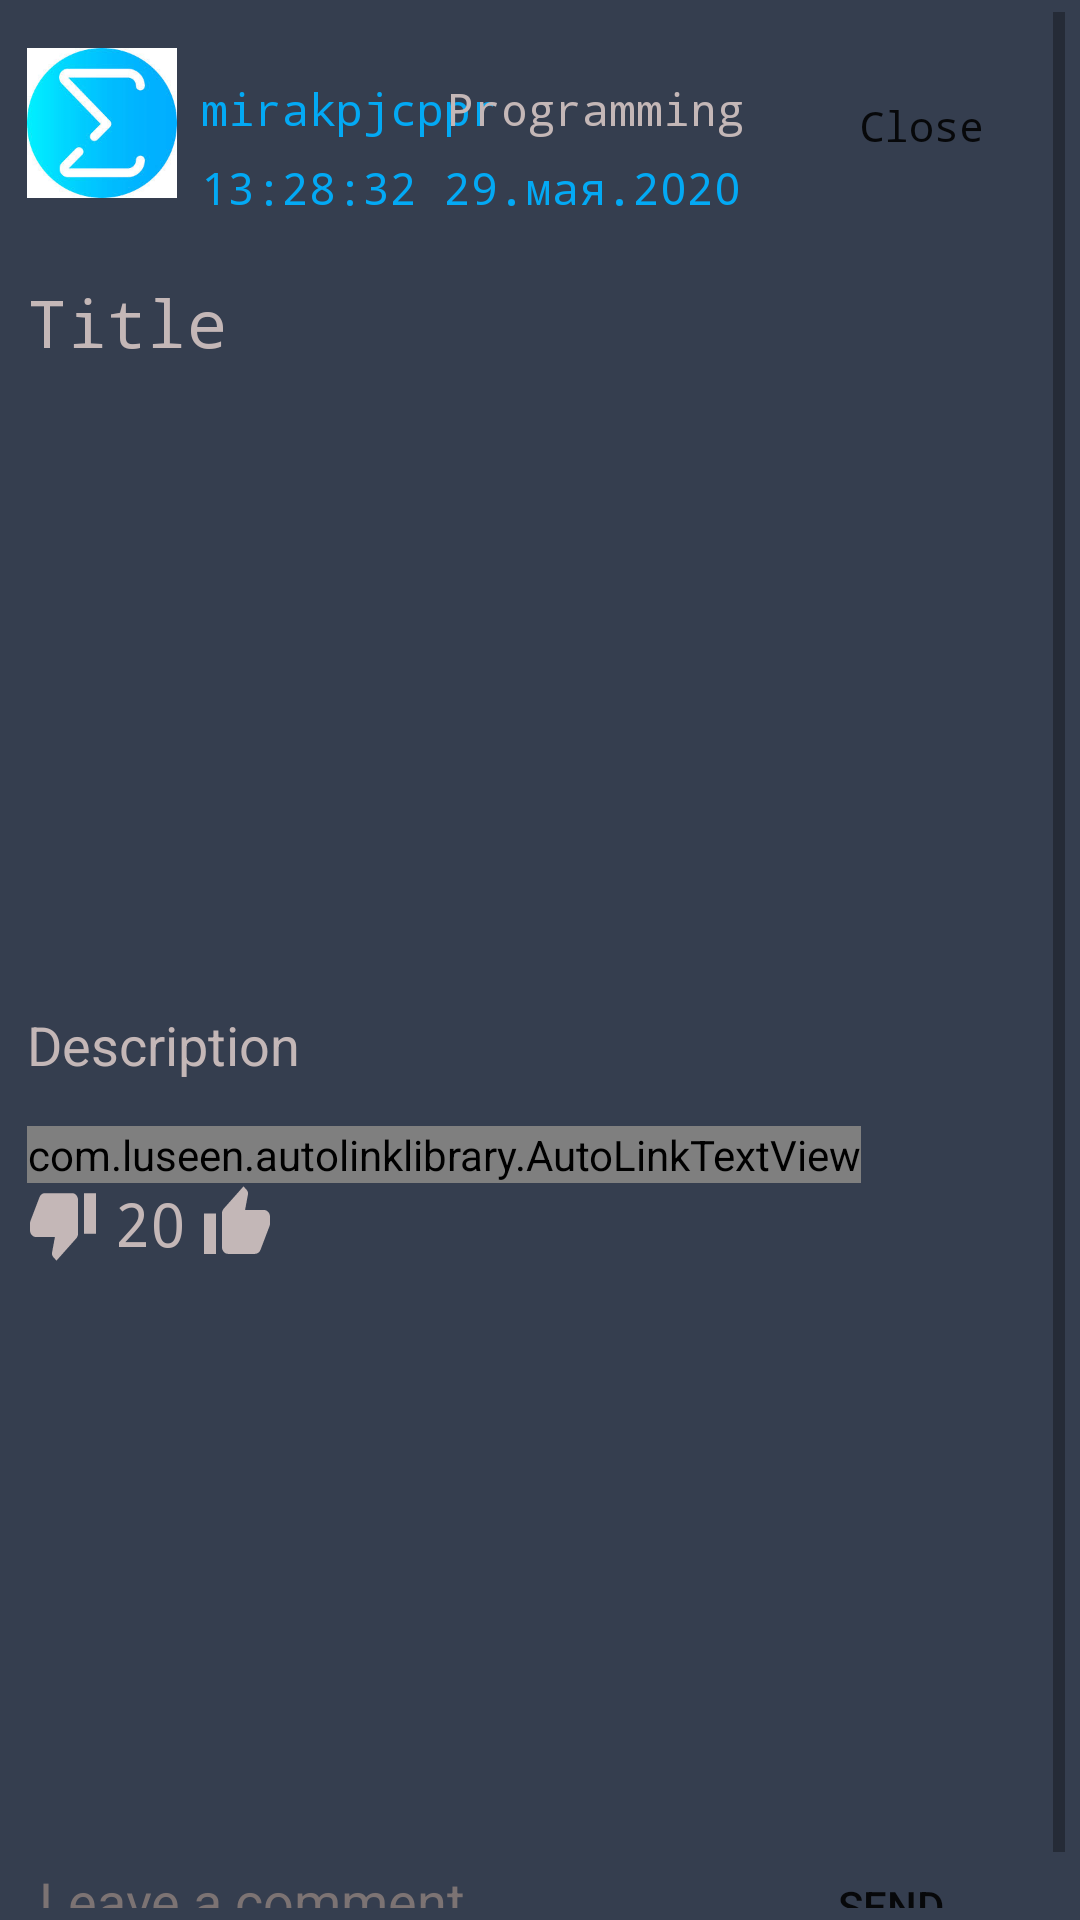

Icons on this 1080px×1920px Android screen, each with its box as (x1, y1, x2, y2):
sigma: (27, 48, 177, 198)
thumb down: (30, 1193, 96, 1261)
thumb up: (204, 1186, 270, 1254)
